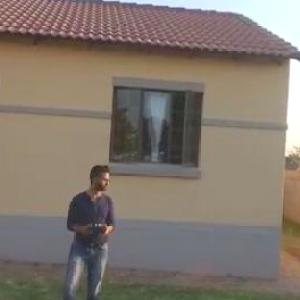follow: (62, 166, 128, 299)
